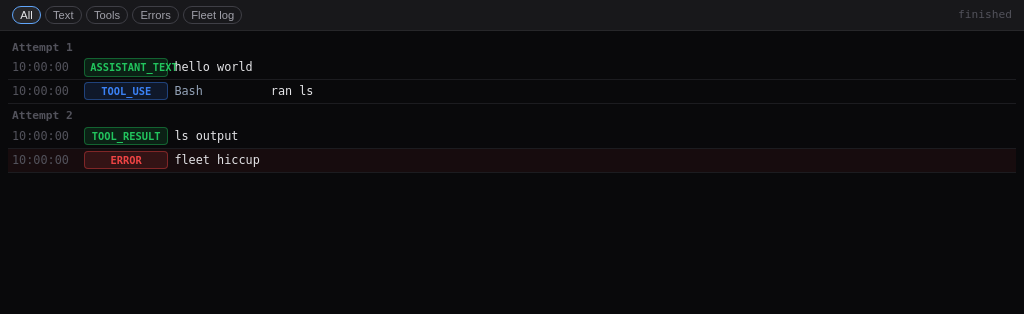
Test: ActivityTab › shows tool_result output text above the JSON
Click the text "ls output".
click(206, 136)  # box [174,129,238,143]
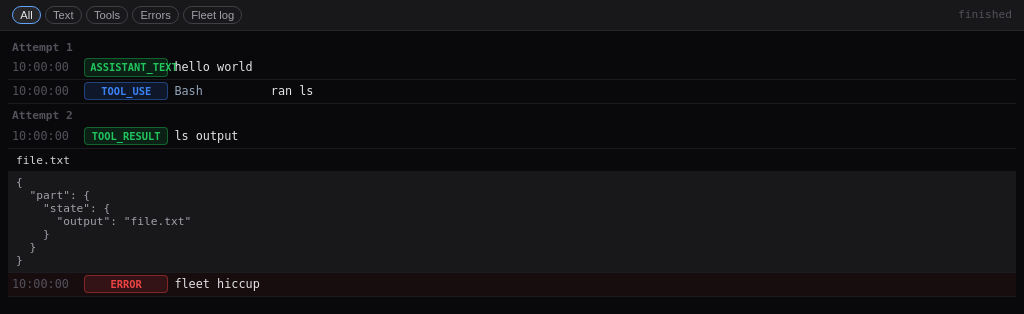
Expected: the text "file.txt" is shown, [8,149,1016,171]
